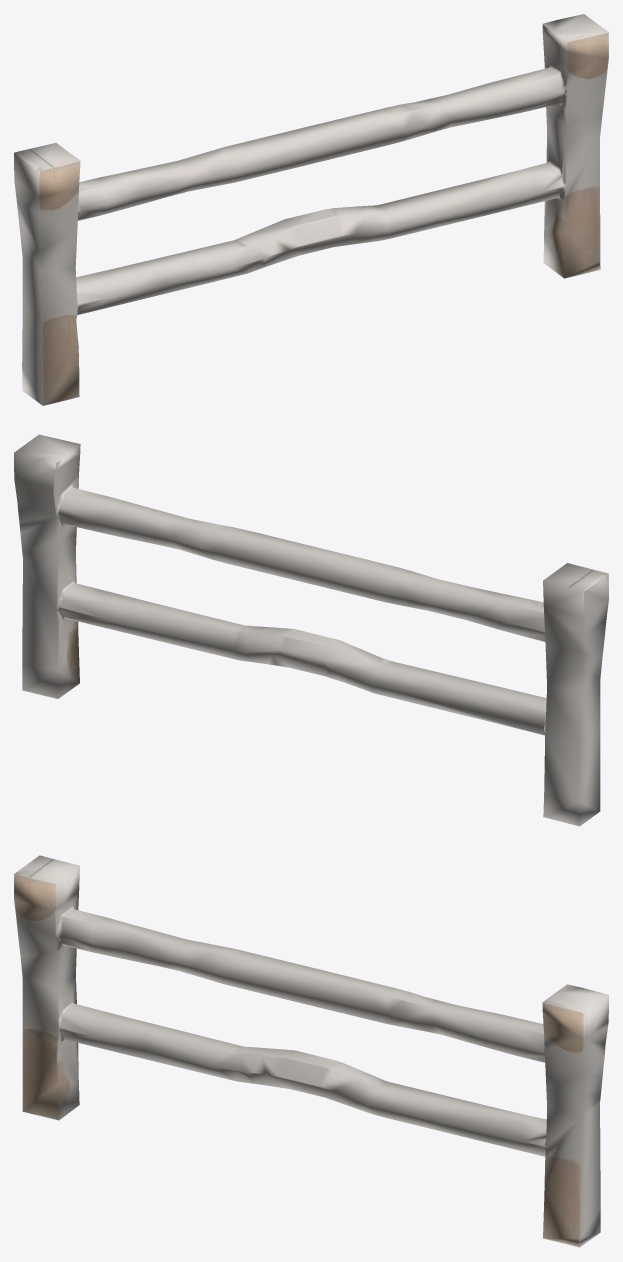
3 views of the same model, one above another, from view 1: azimuth 30°, elevation 25°; view 2: azimuth 150°, elevation 25°; view 3: azimuth 330°, elevation 25° (orthographic).
Size of the model in its own units: 1.68 by 0.6705 by 0.1274.
Materials: 1 (1 with a texture image).
